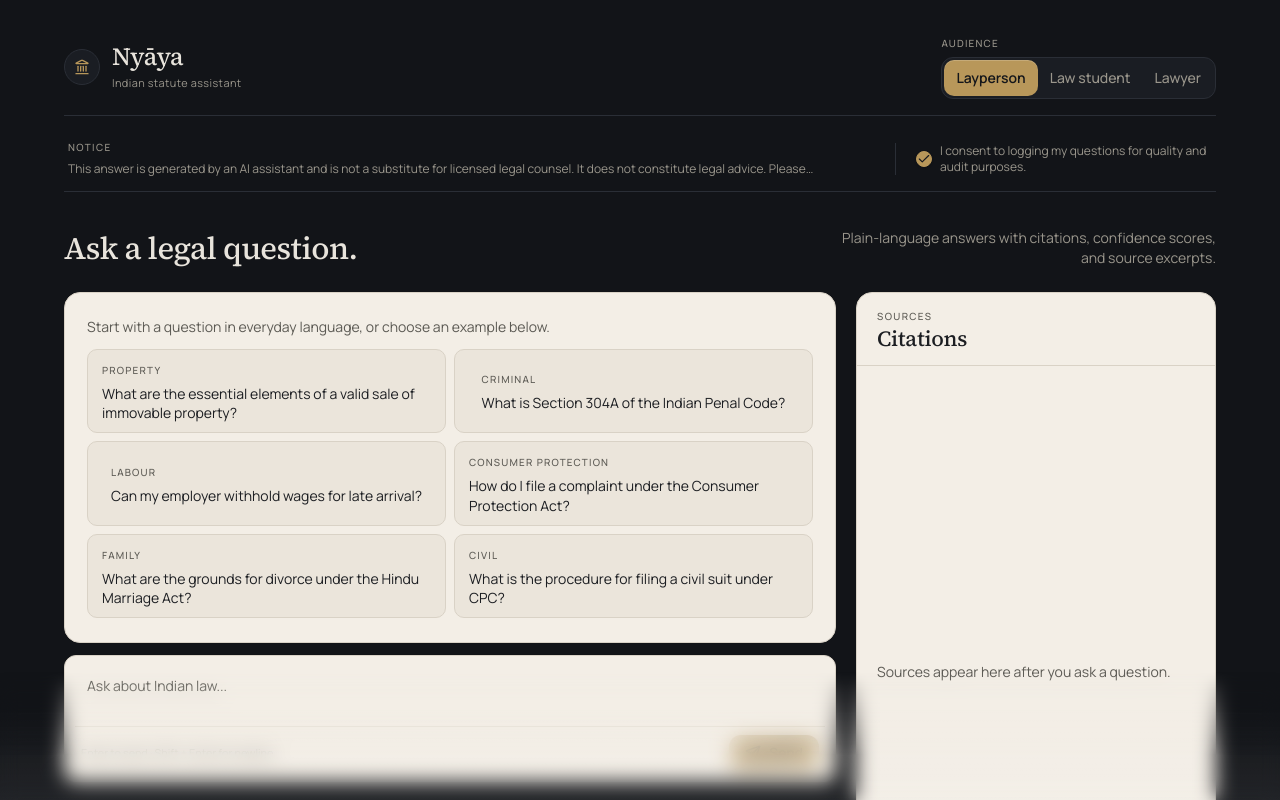
ChatWindow backend wiring › renders assistant answers with citations, confidence, and disclaimer
Type "What is theft?" into the text box named "Your message" at (450,694), box [75,666,825,722]
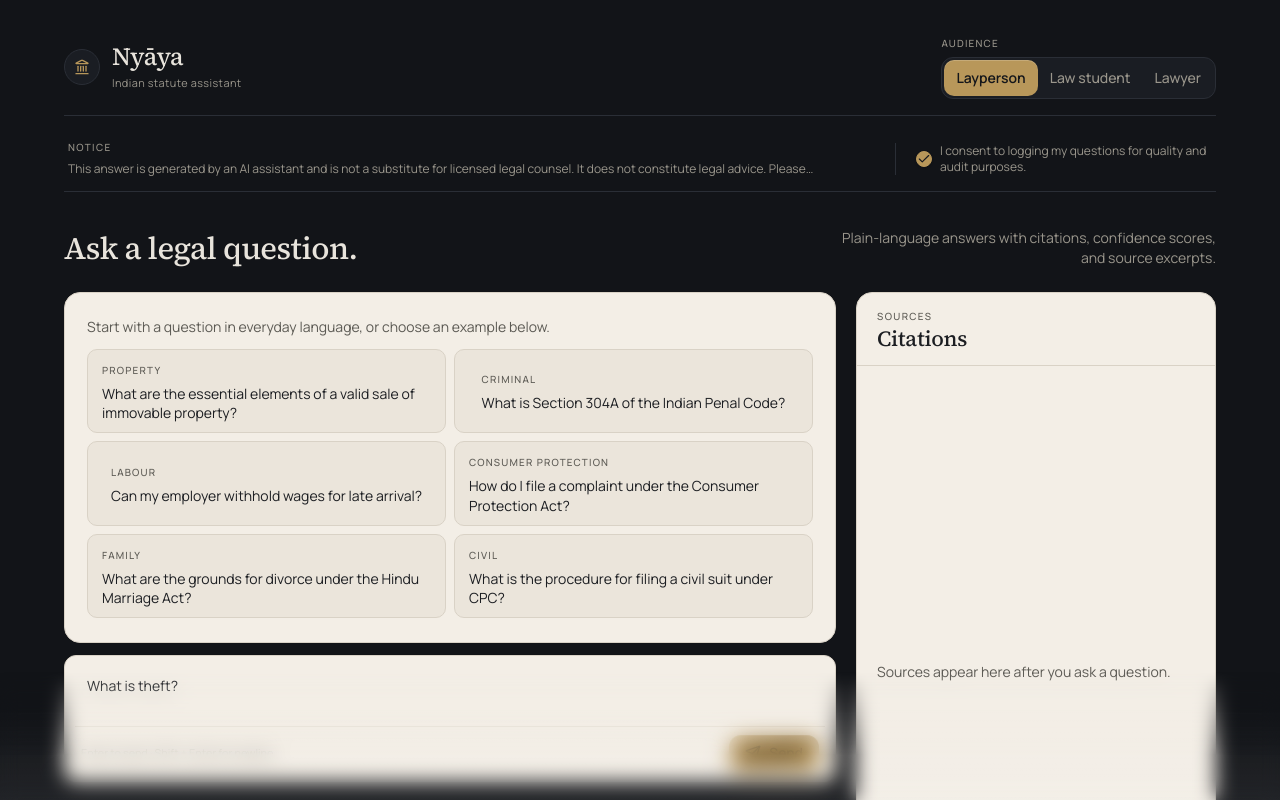
Click the button "Send" at (774,753), box [729,735,819,771]
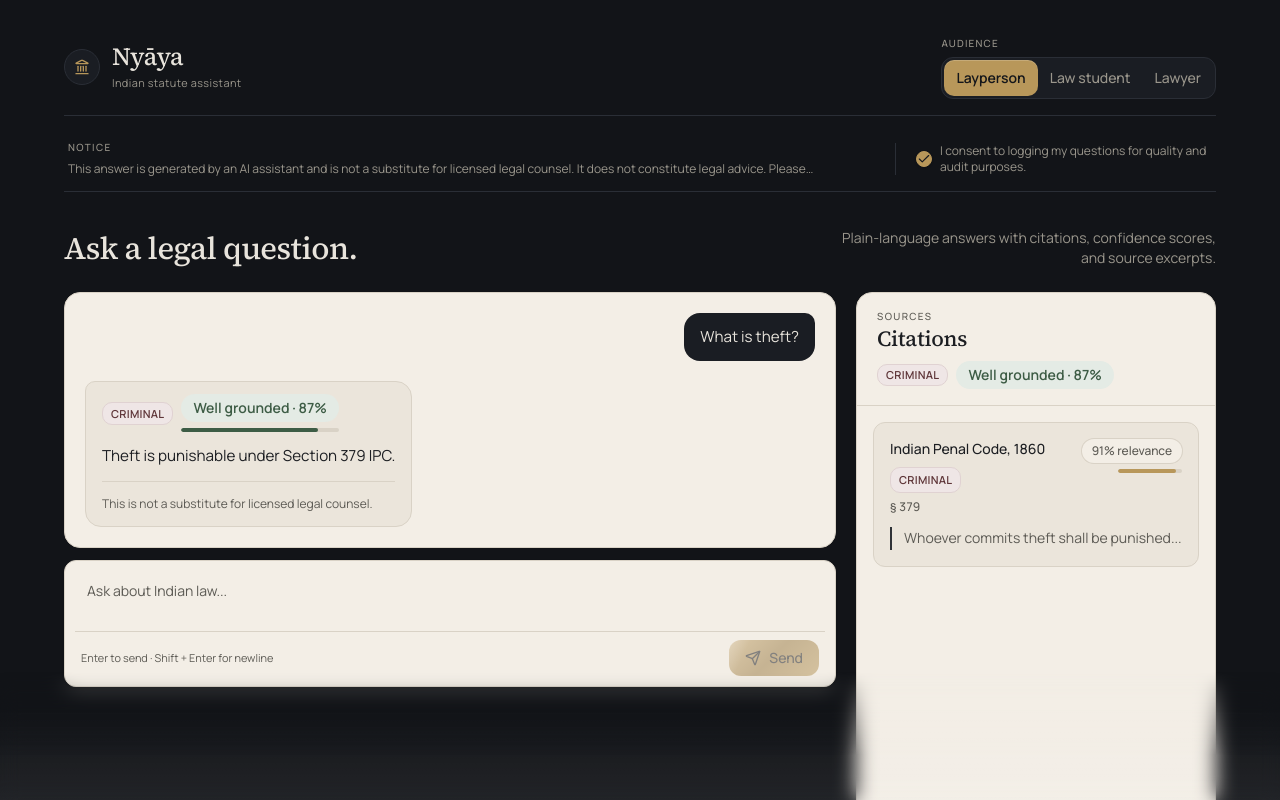
Now the text "Theft is punishable under Section 379 IPC." is shown, box [102,444,395,469]
Now the text named "High confidence: 87%" is shown, box [181,394,339,422]
Now the text "This is not a substitute for licensed legal counsel." is shown, box [102,481,395,514]
